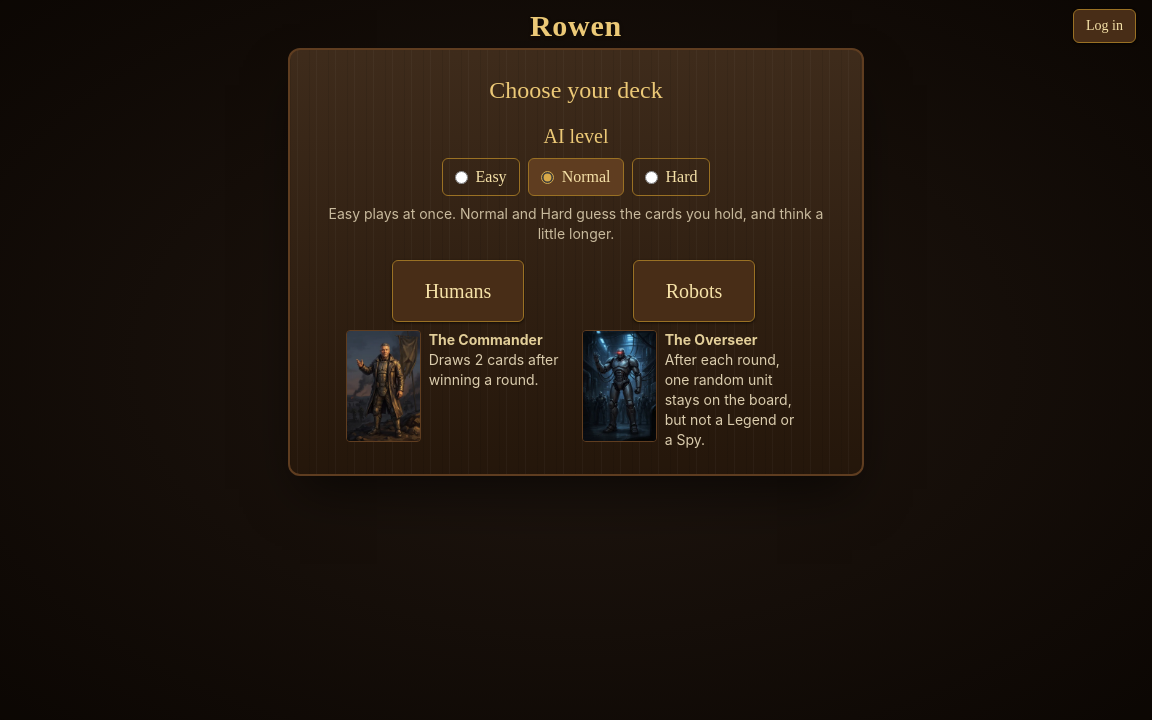
Scenario: a taken username is said, and switching back clears it
Click the button "Log in".
click(1104, 26)  # box [1073,9,1136,43]
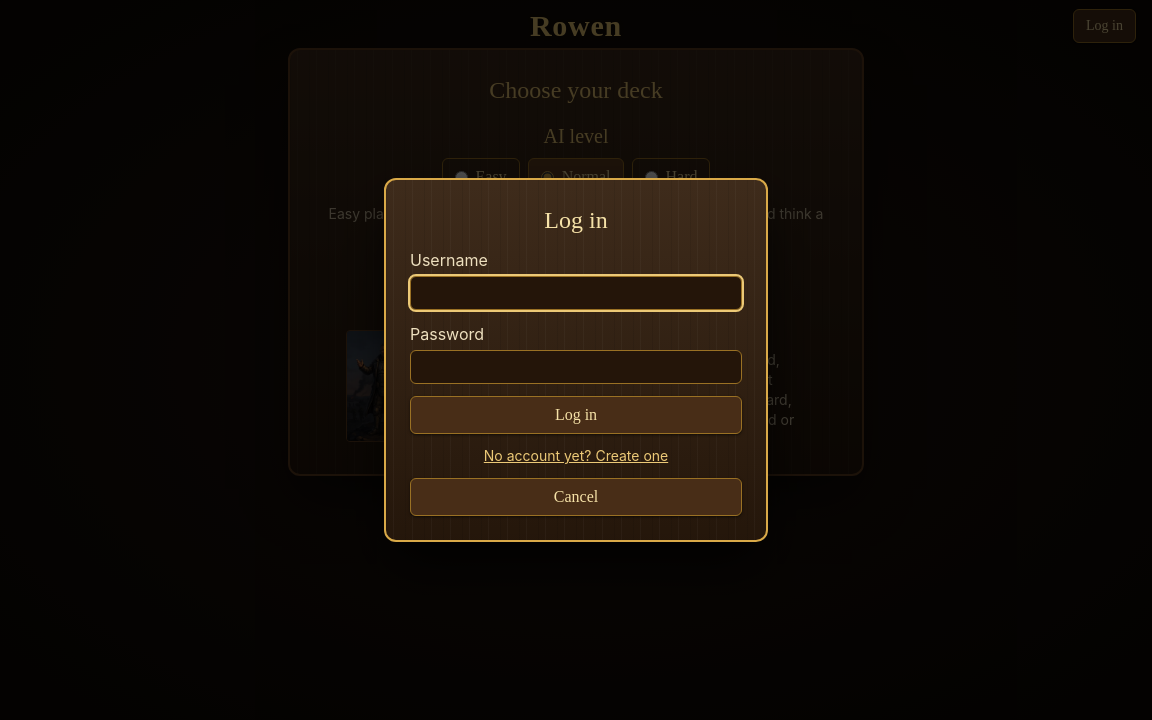
Click the button "No account yet? Create one".
click(576, 456)  # box [410,446,742,466]
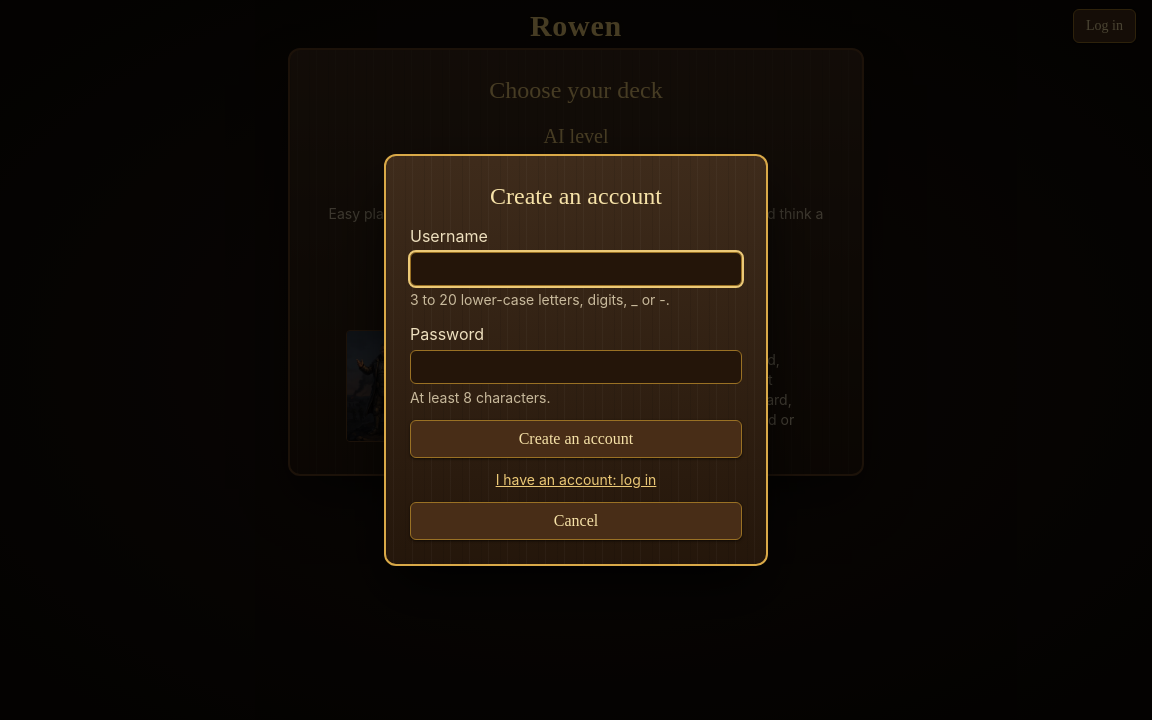
Type "rui" into the field labelled "Username".
click(576, 269); type("rui")  # box [410,252,742,286]
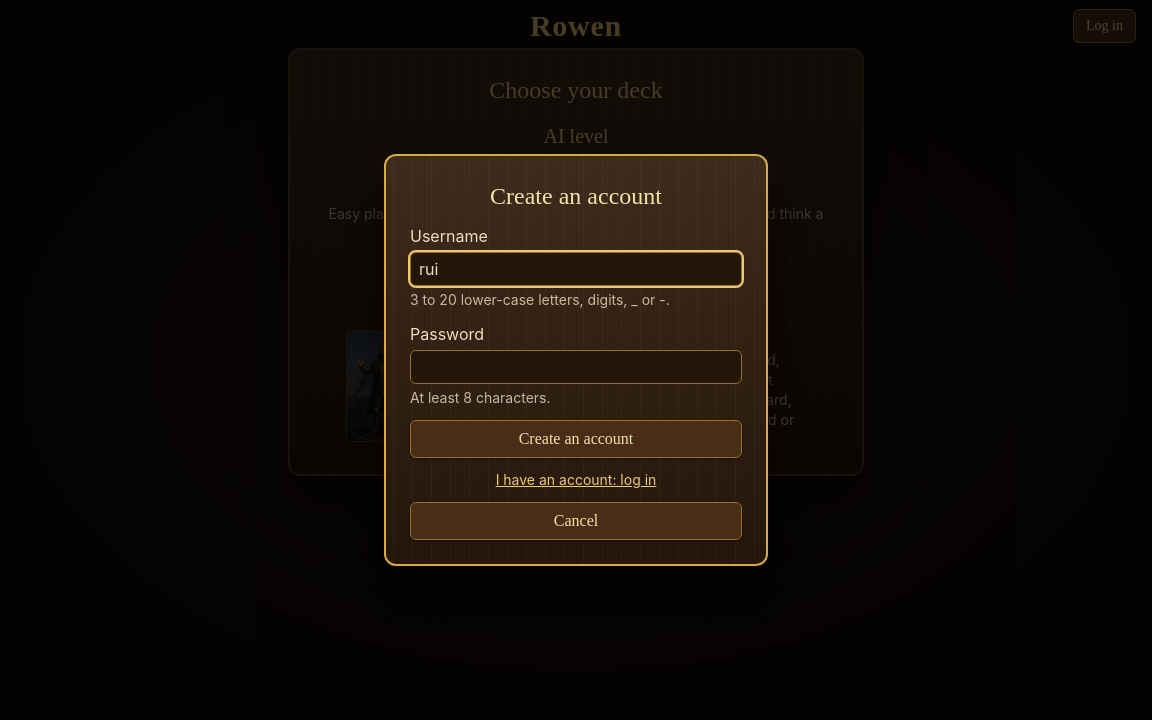
Type "dragon123" into the password field labelled "Password".
click(576, 367); type("dragon123")  # box [410,350,742,384]
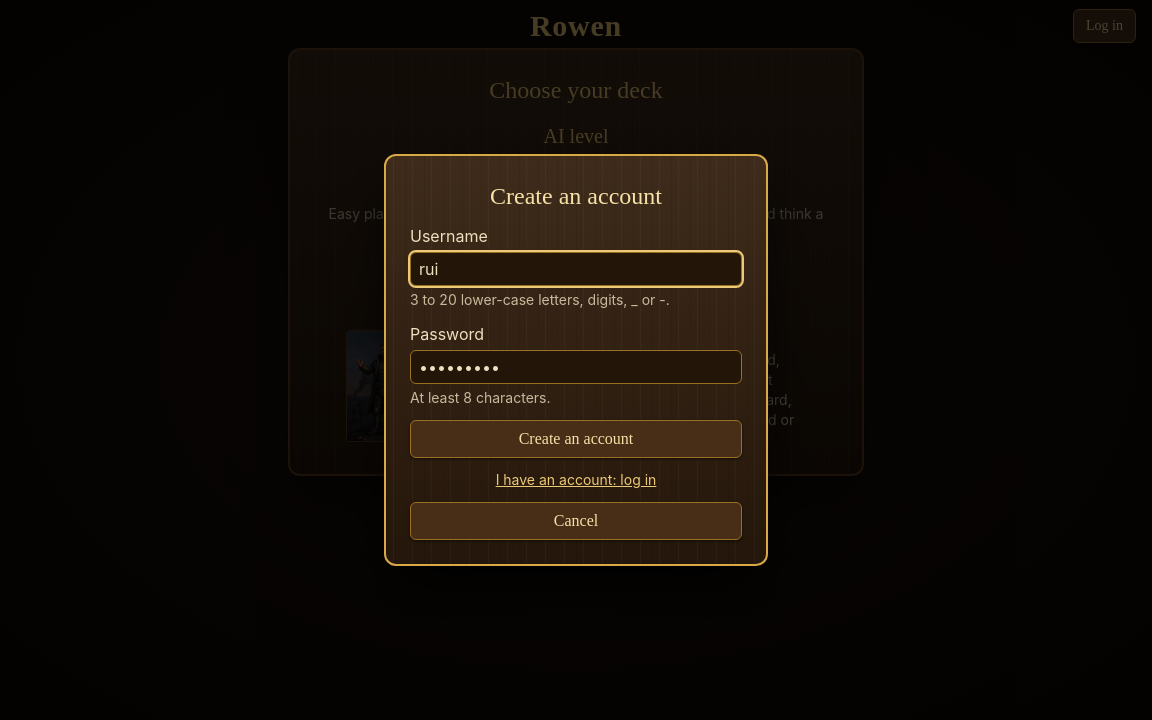
Click the button "Create an account".
click(576, 439)  # box [410,420,742,458]
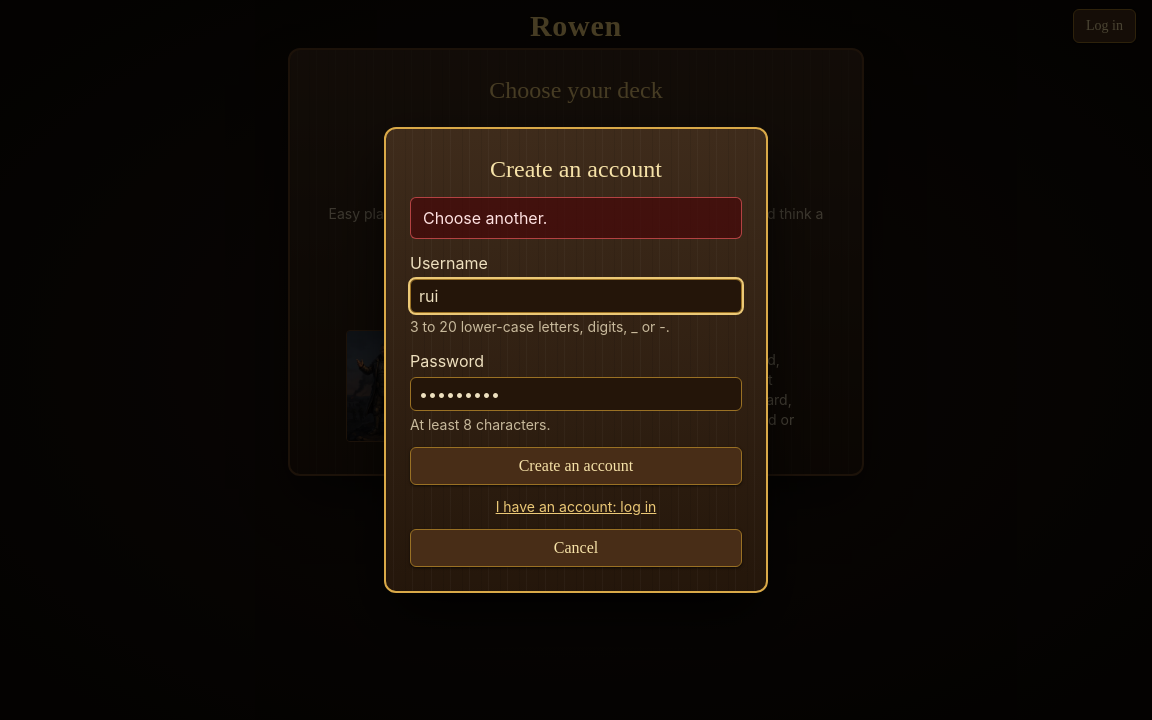
expect the message reads "Choose another.": met, box [423,208,547,228]
Click the button "I have an account: log in".
click(576, 507)  # box [410,497,742,517]
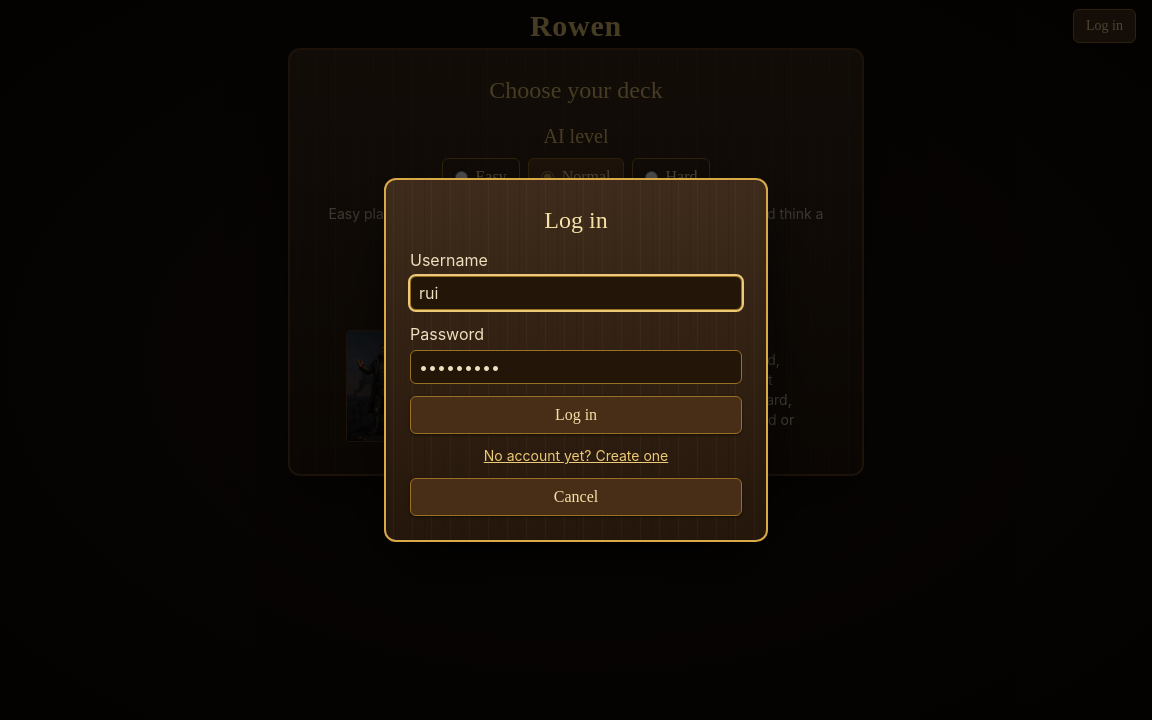
expect the message "Choose another." is gone: met
